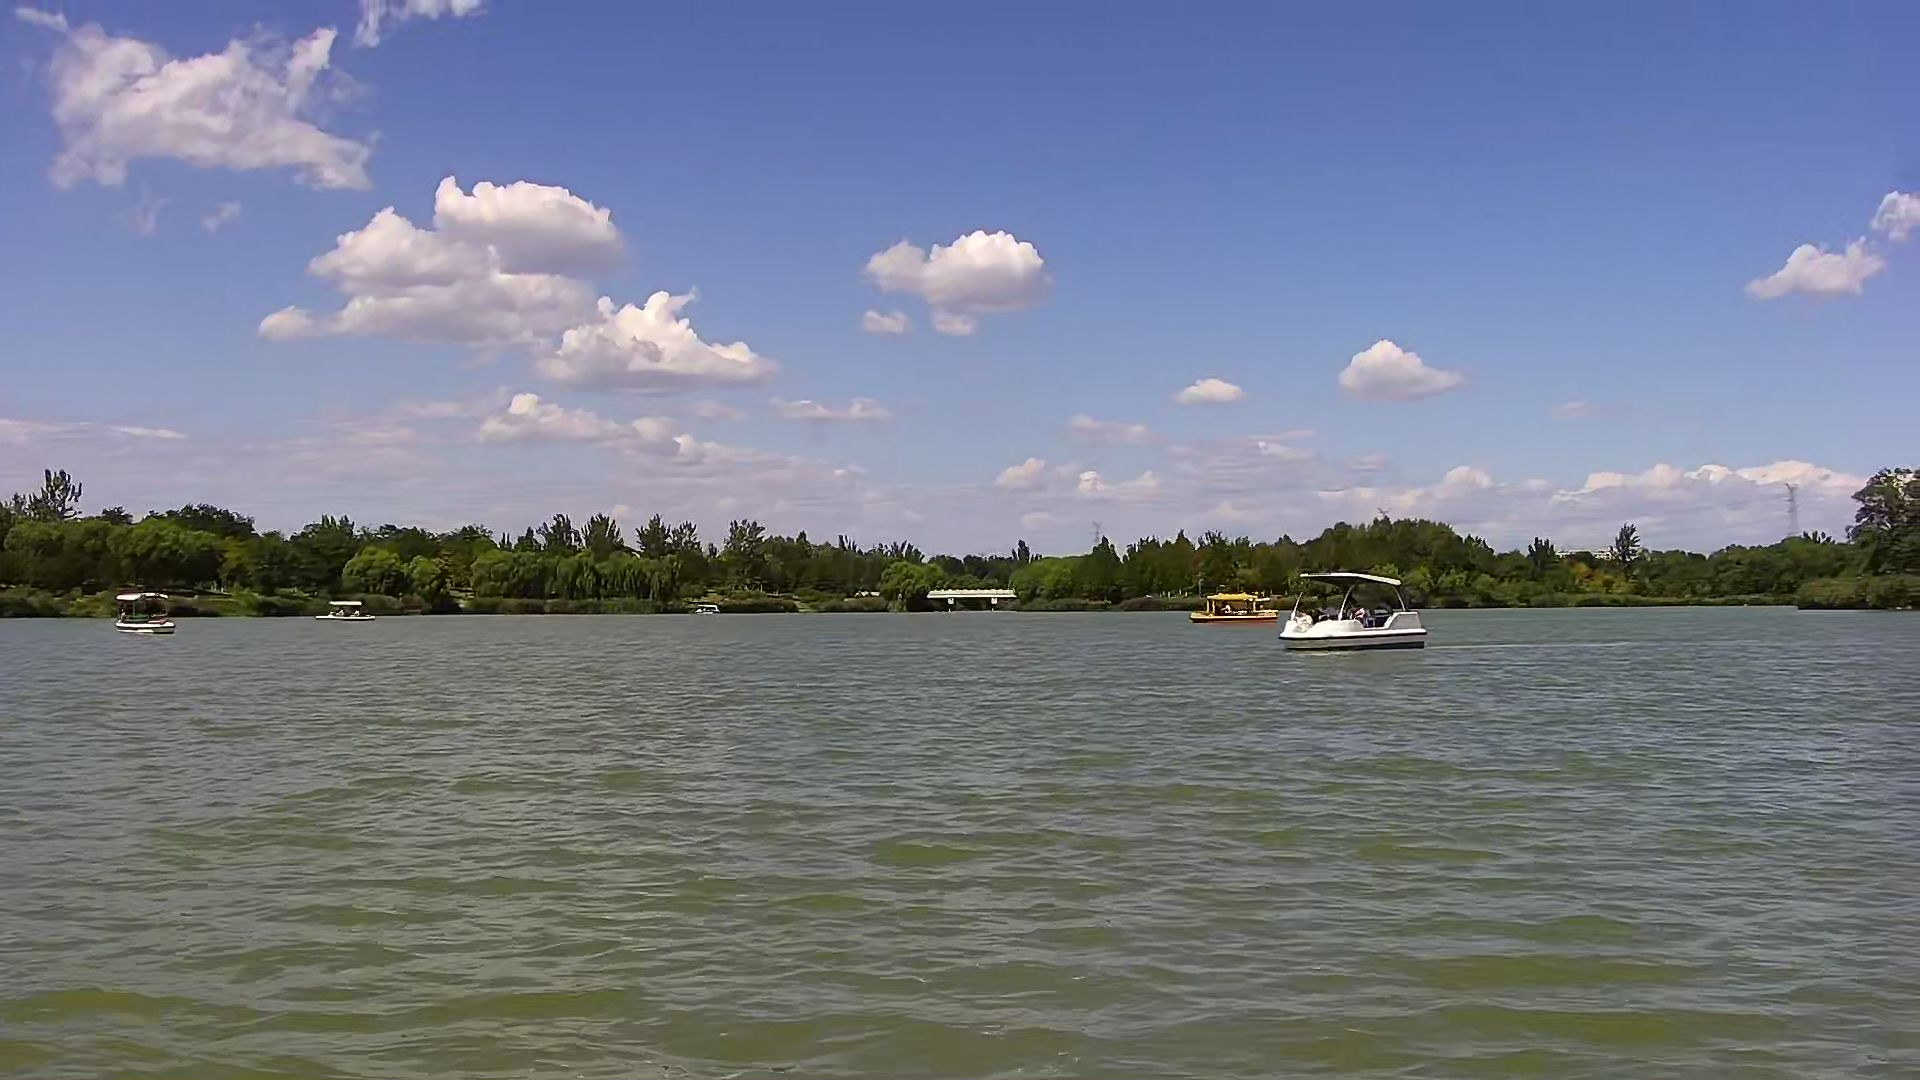boat: (1278, 568, 1425, 647), (112, 589, 170, 637), (1189, 589, 1278, 620), (318, 595, 375, 615)
bridge: (928, 589, 1014, 611)
